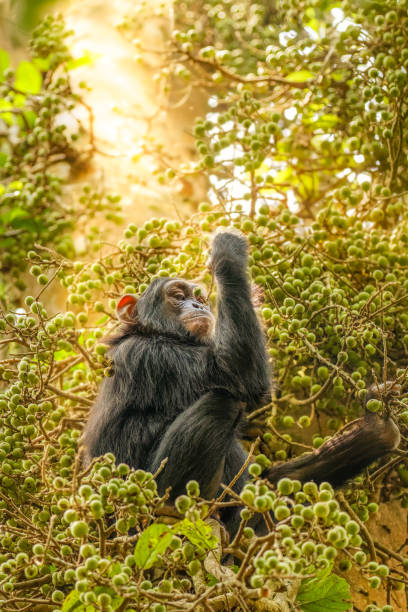chimpanzee: (102, 257, 219, 371)
